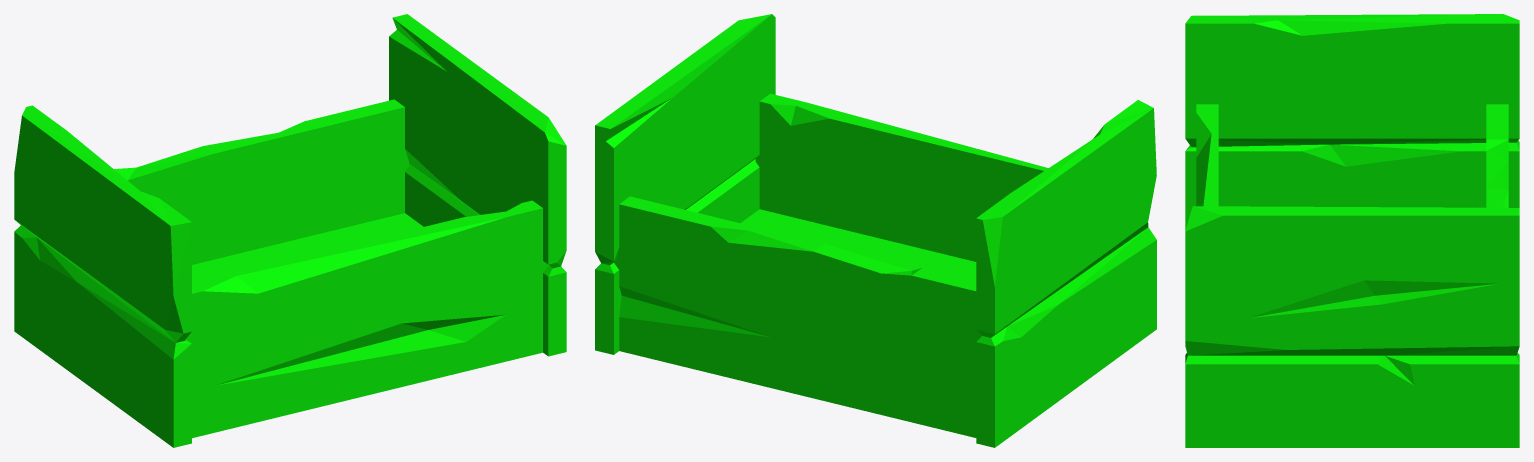
Rendered from SM_Toolbox_Small_Fantasy.fbx.
The picture shows the model from 3 angles, left to right: view 1: azimuth 30°, elevation 25°; view 2: azimuth 150°, elevation 25°; view 3: azimuth 270°, elevation 25°; orthographic projection. The views are drawn at different scales.
Parts seen in each view (by area): view 1: toolbox-small-fantasy; view 2: toolbox-small-fantasy; view 3: toolbox-small-fantasy.
Part boxes in pixels (bbox=[...]): toolbox-small-fantasy: bbox=[14, 14, 566, 447]; toolbox-small-fantasy: bbox=[595, 14, 1156, 447]; toolbox-small-fantasy: bbox=[1185, 14, 1519, 447].
Size of the model in its own units: 0.4275 by 0.2302 by 0.3.
